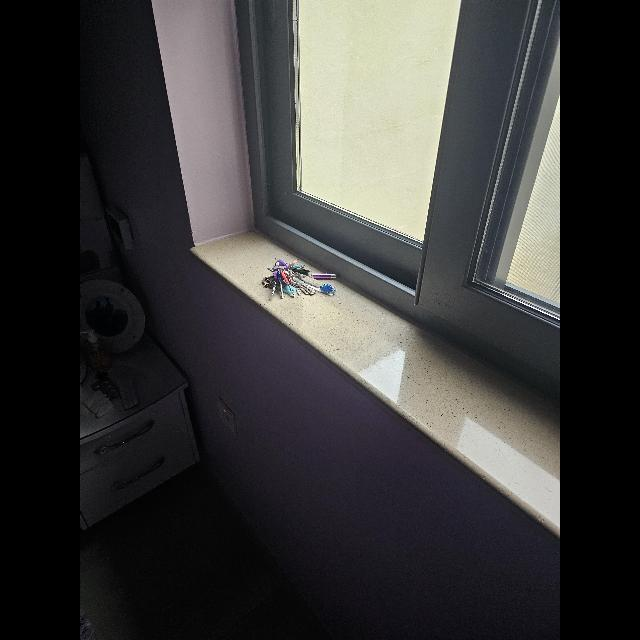Keys: (264, 258, 336, 298)
